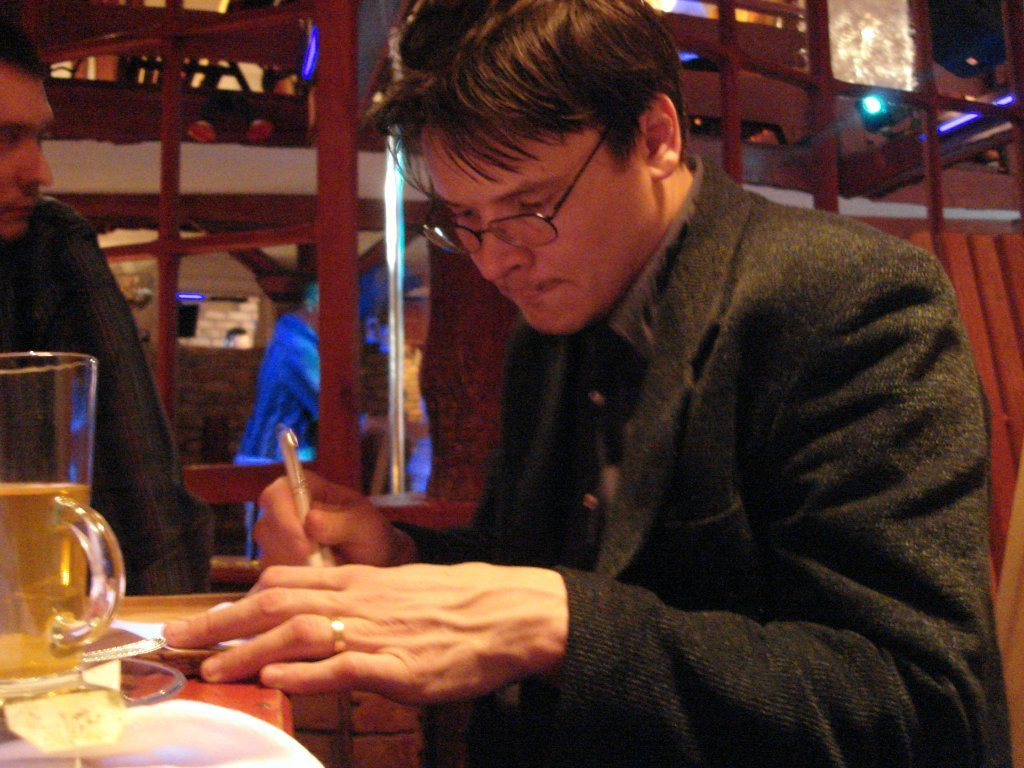Beer: (0, 479, 122, 691)
